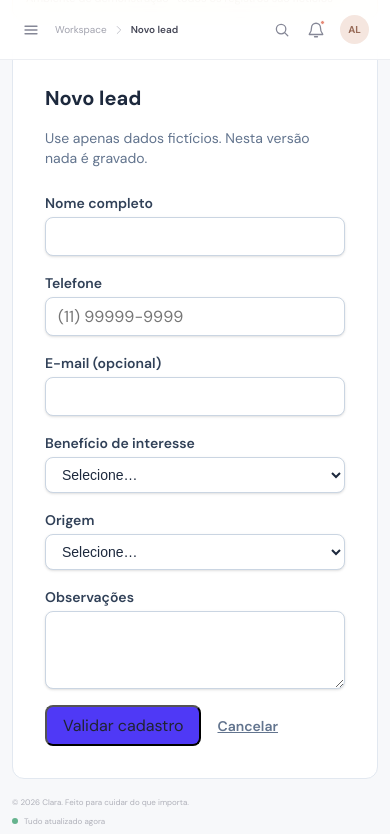
Test: Formulário de novo lead › mostra os erros dos campos obrigatórios ao enviar vazio
The image size is (390, 834).
(page scrolled)
Click the button "Validar cadastro": (123, 726) [45,705,202,746]
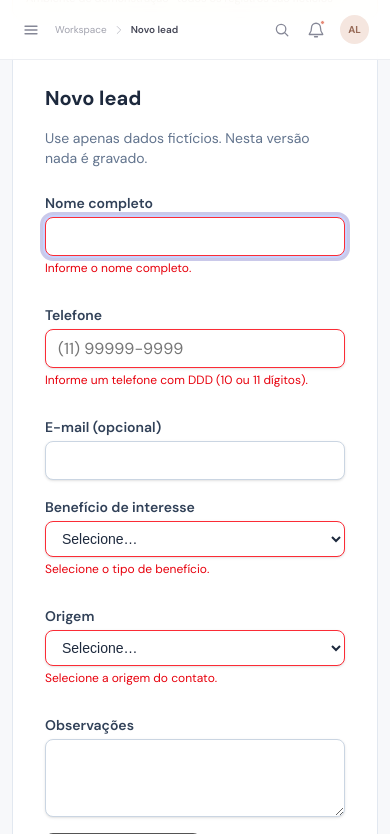
Expected: the text "Informe o nome completo." is shown, [45,260,191,276]
Expected: the text "Informe um telefone com DDD (10 ou 11 dígitos)." is shown, [45,372,345,388]
Expected: the text "Selecione o tipo de benefício." is shown, [45,561,209,577]
